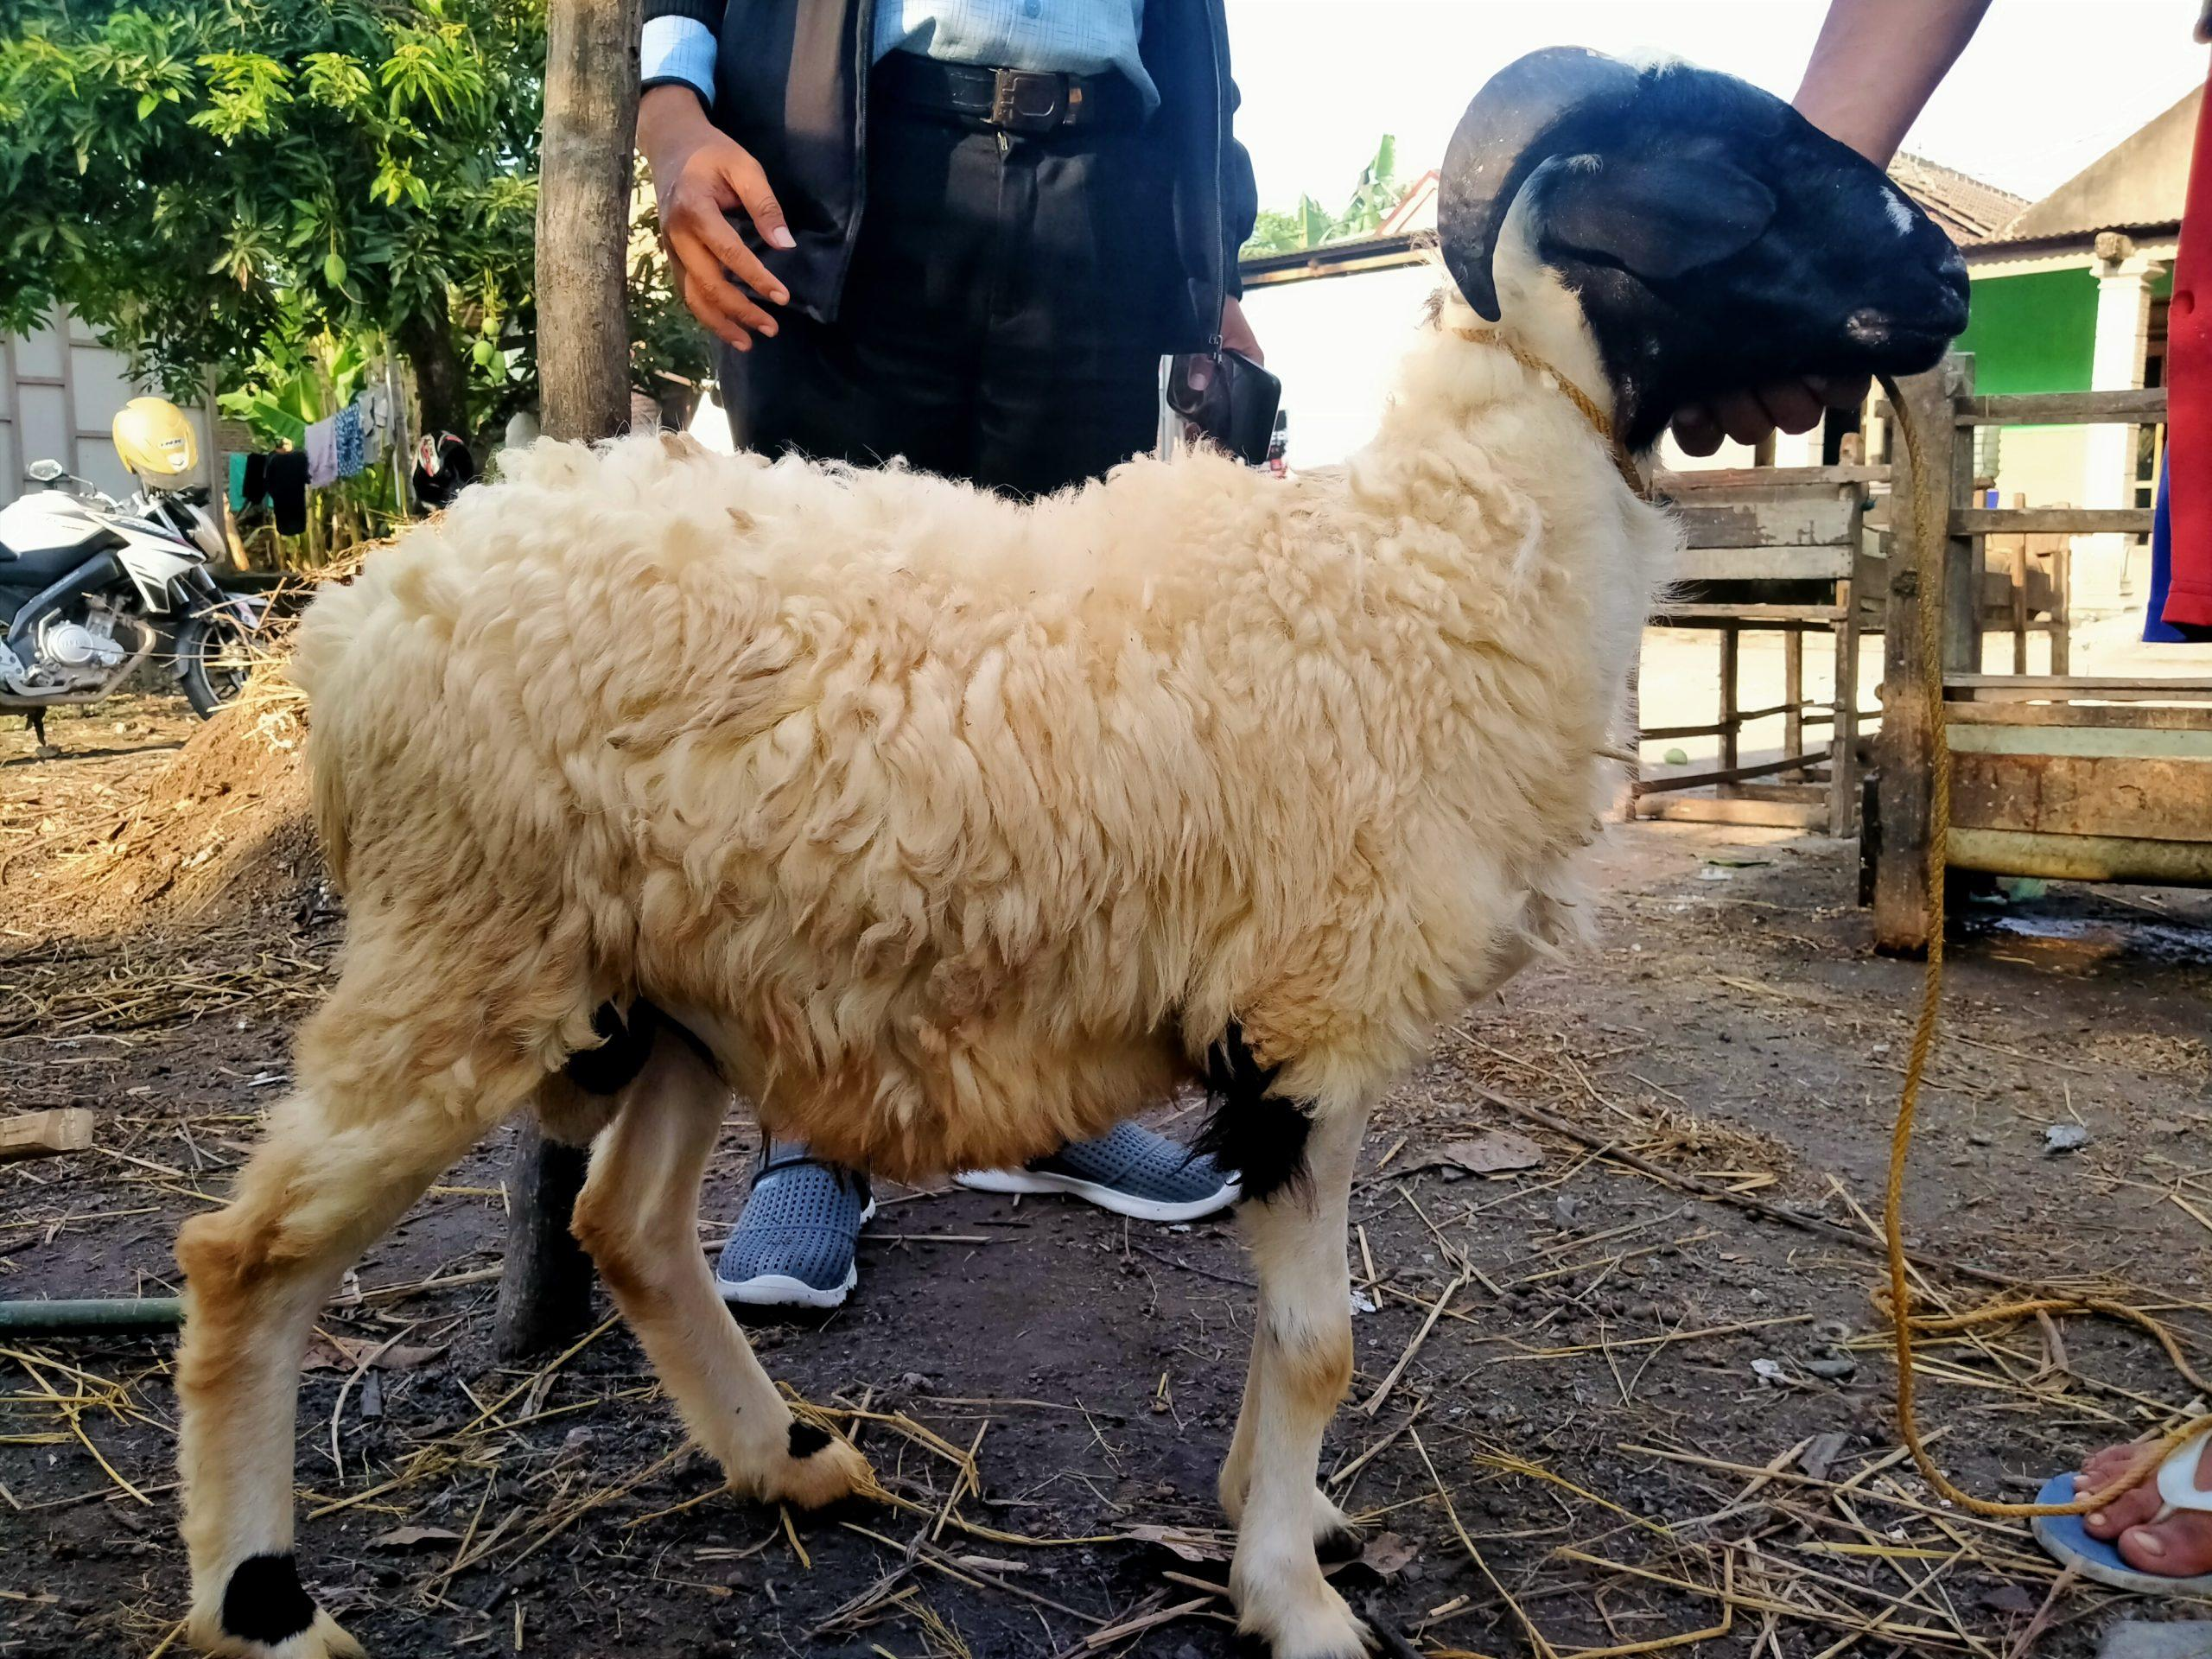Sheep: (1426, 0, 1987, 596)
